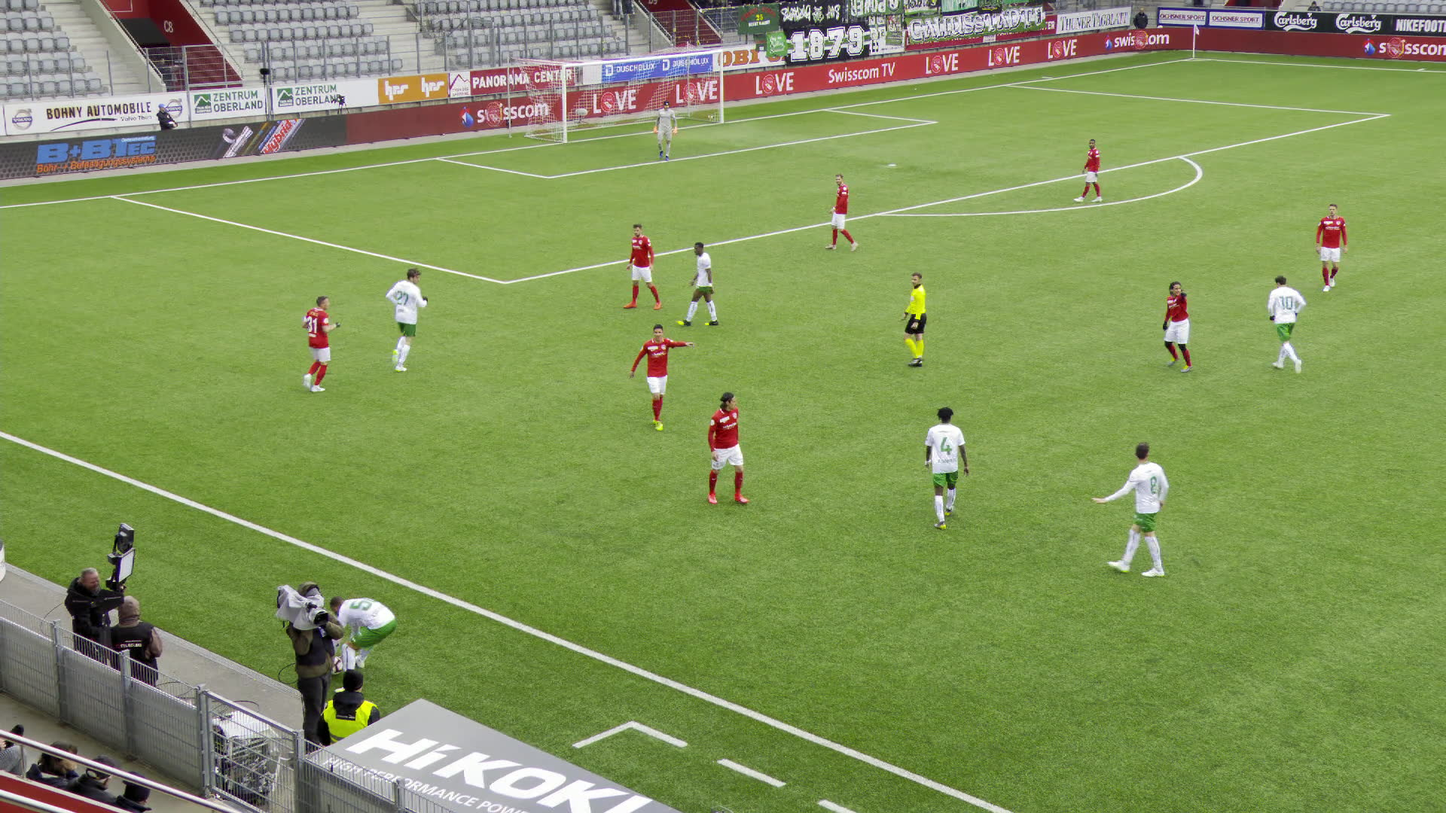player: (1088, 440, 1167, 578), (324, 590, 401, 695), (626, 324, 697, 434), (921, 406, 970, 531), (703, 391, 754, 507), (385, 267, 429, 373), (1265, 276, 1310, 378), (674, 240, 721, 330), (301, 294, 340, 394), (621, 223, 661, 312), (1158, 279, 1194, 373), (1314, 202, 1349, 292), (825, 173, 862, 253), (1075, 138, 1103, 205), (652, 100, 678, 161)
referee: (898, 271, 930, 370)
